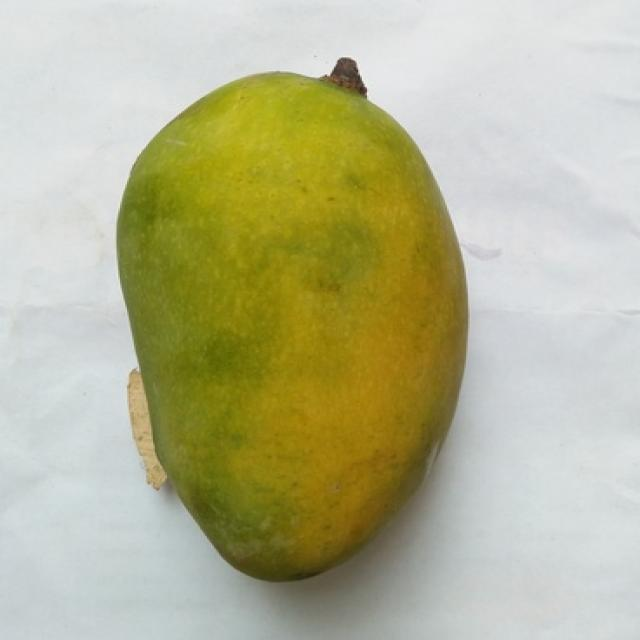Mango: (118, 74, 464, 580)
